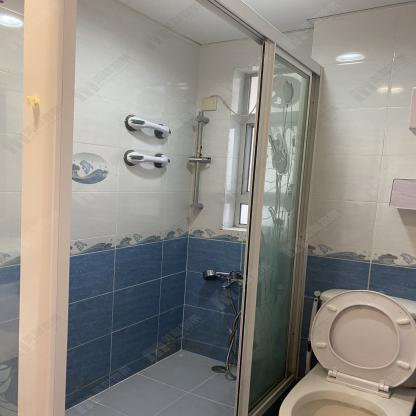Toilet: (277, 288, 416, 416)
